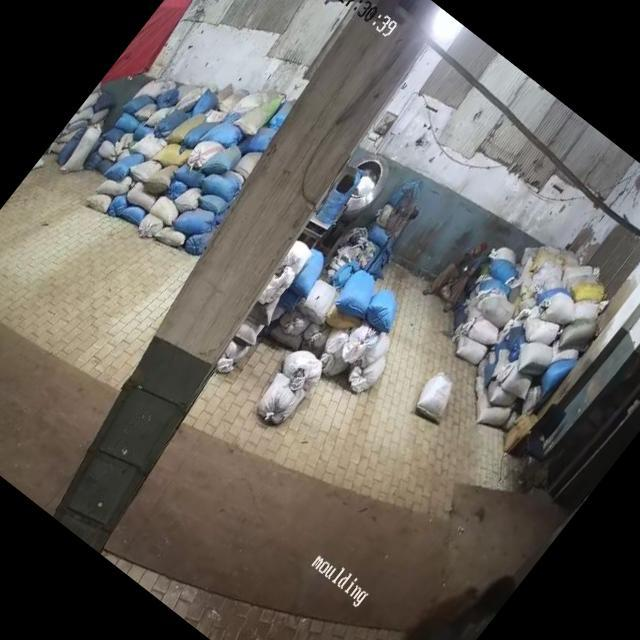person: (421, 232, 496, 316)
